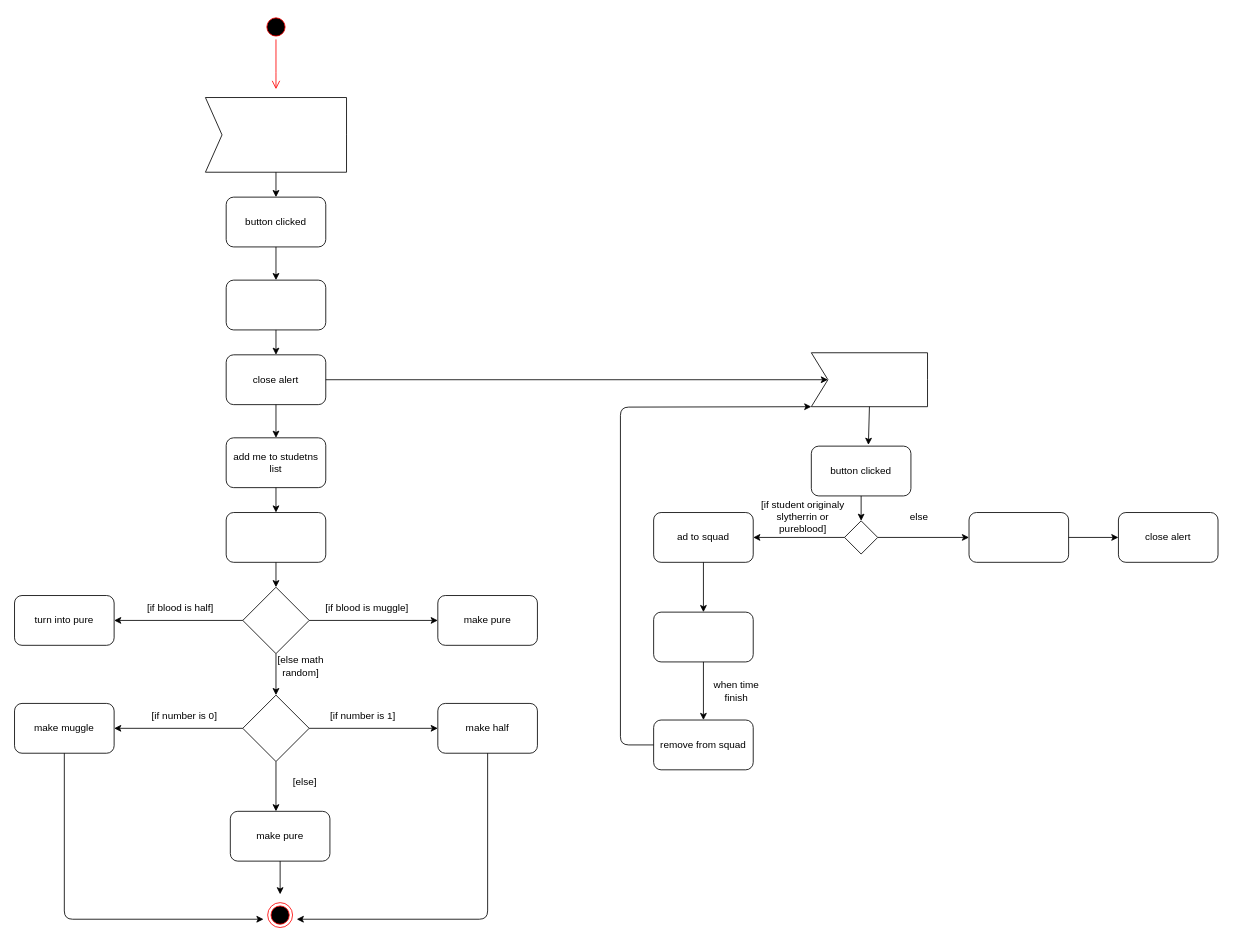
This 1233x942 diagram has some shape labels left out. The shapes that lost their labels are listed below. From the top down, each one's centre as x and y in pixels, then its label:
At (276,134): "wait for click on header(hack) button".
At (275,304): "show hack alert".
At (869,379): "wait for click on squad button".
At (275,537): "hack bloodstatus and make mess".
At (1018,537): "alert studetns not suited".
At (703,636): "settimeout()".
